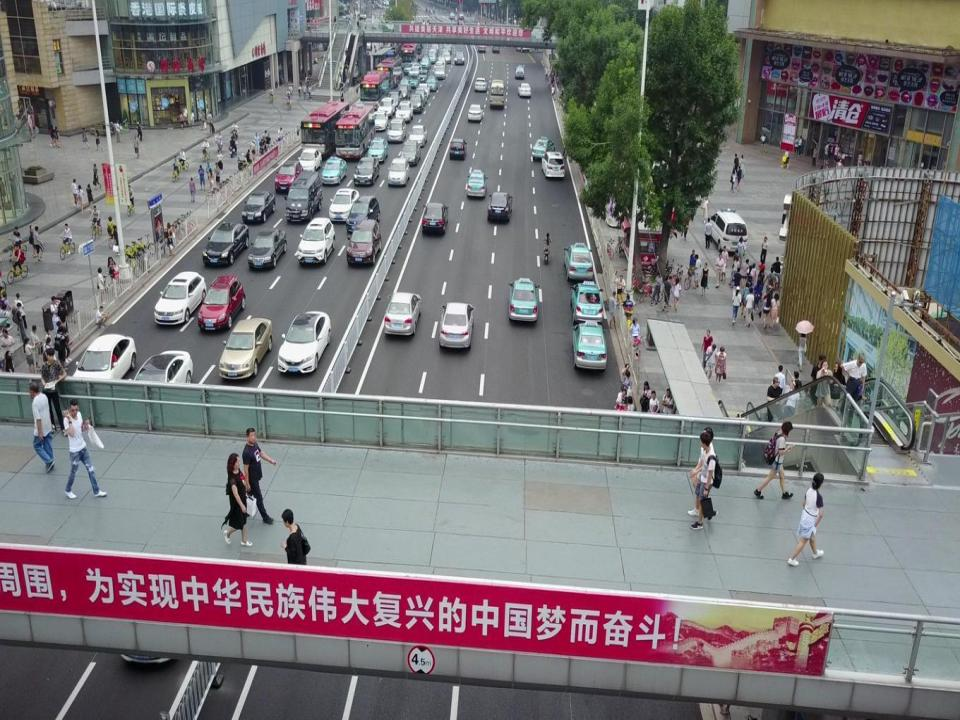bus: (300, 101, 348, 156), (336, 102, 376, 158), (360, 69, 390, 107), (376, 56, 403, 92), (490, 79, 505, 108)
car: (113, 532, 207, 664), (277, 310, 332, 375), (219, 317, 273, 381), (75, 332, 136, 387), (157, 270, 207, 326), (131, 350, 193, 394), (198, 277, 246, 330), (202, 221, 250, 269), (297, 218, 336, 266), (438, 301, 475, 351), (383, 291, 422, 338), (346, 219, 382, 269), (708, 209, 748, 254), (571, 323, 607, 371), (507, 276, 540, 326), (248, 229, 288, 270), (570, 282, 604, 325), (348, 194, 380, 233), (563, 242, 594, 281), (241, 191, 276, 223), (329, 187, 359, 222), (421, 202, 449, 238), (487, 191, 514, 226), (275, 161, 303, 190), (388, 156, 410, 188), (466, 167, 488, 199), (354, 158, 380, 185), (542, 150, 565, 180), (322, 158, 347, 185), (368, 136, 388, 164), (298, 149, 322, 172), (399, 140, 421, 165), (532, 137, 556, 159), (407, 124, 428, 147), (388, 118, 406, 142), (395, 101, 413, 122), (450, 137, 467, 159), (378, 97, 394, 119), (372, 112, 388, 130), (468, 103, 484, 121), (408, 93, 422, 113), (387, 89, 403, 105), (403, 62, 422, 74), (416, 83, 430, 99), (514, 38, 530, 52), (616, 232, 624, 258), (415, 88, 427, 105), (399, 77, 411, 94), (474, 77, 487, 92), (517, 84, 531, 97), (397, 85, 409, 99), (426, 76, 438, 90), (514, 64, 524, 80), (433, 67, 445, 80), (420, 55, 431, 68), (408, 74, 418, 88), (419, 69, 429, 83), (454, 51, 464, 65), (435, 62, 445, 74), (430, 46, 438, 58), (478, 40, 486, 52), (438, 56, 446, 67), (443, 53, 451, 64), (428, 52, 436, 62), (428, 50, 436, 59), (441, 49, 449, 58), (443, 46, 451, 54), (432, 42, 438, 51)
van: (284, 171, 322, 225), (490, 41, 500, 54)
